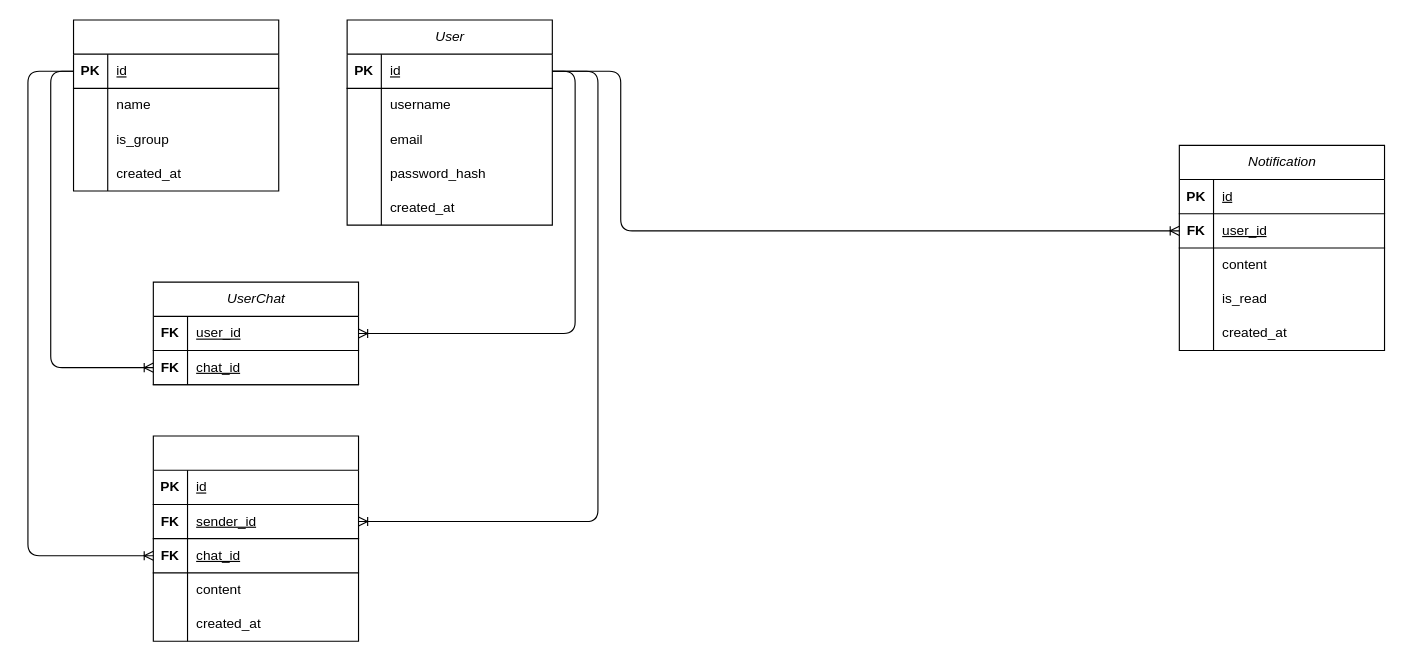
Image size: 1404x661. Some labels were removed from this diagram. The shapes that lost their labels are listed below. From the top down, each one's box as (x1, y1, x2, y2) in pixels, then its label:
(72, 19, 279, 191): Chat
(152, 435, 359, 641): Message
